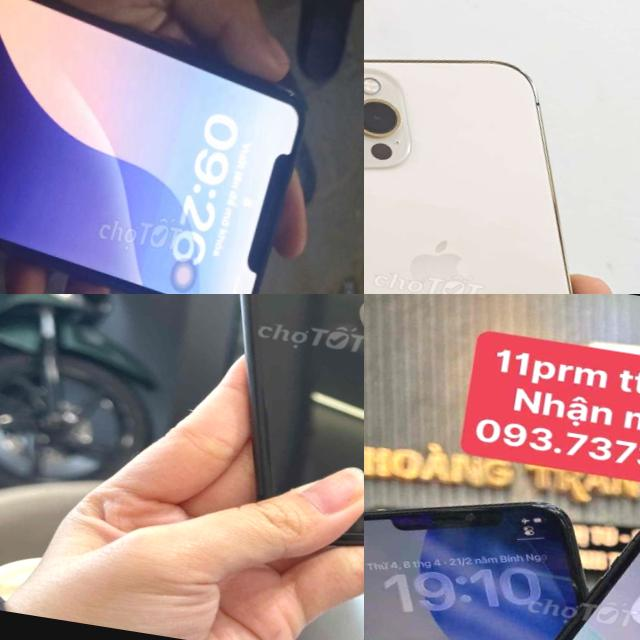gen_11: (165, 294, 364, 567), (403, 488, 640, 640)
gen_12_13: (364, 60, 570, 294)
gen_x_xs: (0, 0, 337, 294)
